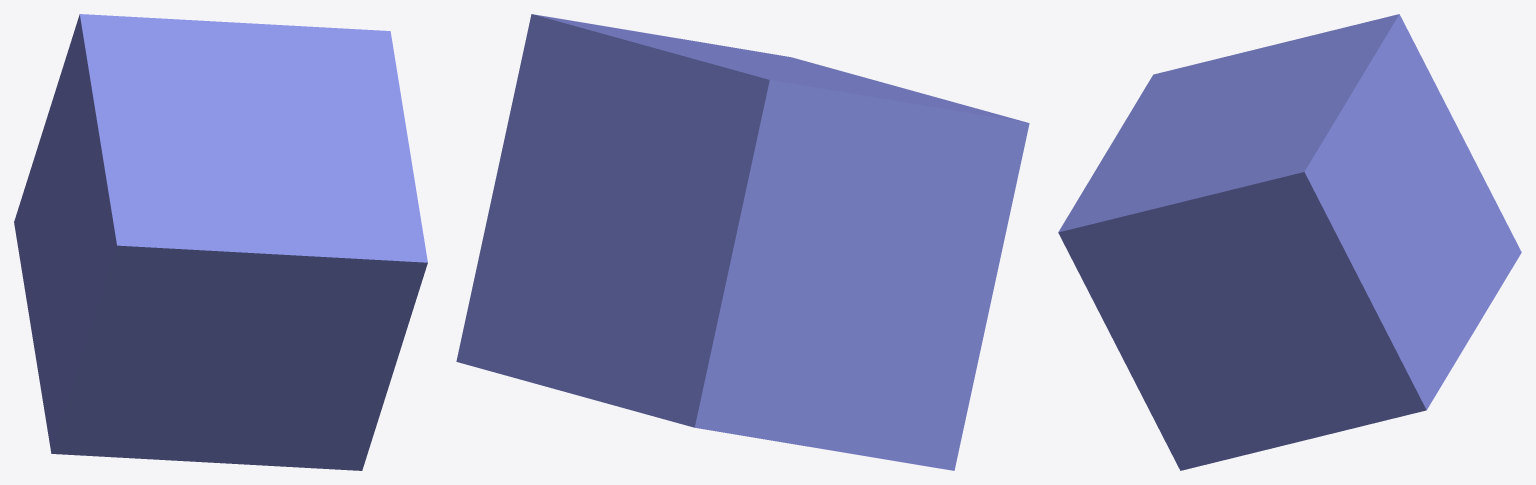
The picture shows the model from 3 angles, left to right: view 1: azimuth 30°, elevation 25°; view 2: azimuth 150°, elevation 25°; view 3: azimuth 270°, elevation 25°; orthographic projection. The views are drawn at different scales.
Parts seen in each view (by area): view 1: mesh_id27; view 2: mesh_id27; view 3: mesh_id27.
Boxes of the visible parts, bbox=[...] form: mesh_id27: bbox=[14, 14, 427, 470]; mesh_id27: bbox=[456, 14, 1029, 470]; mesh_id27: bbox=[1058, 14, 1521, 470].
Size of the model in its own units: 0.2369 by 0.2622 by 0.2882.
